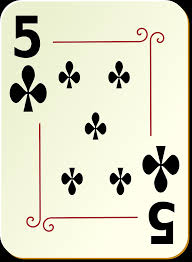five of clubs: (4, 6, 185, 256)
